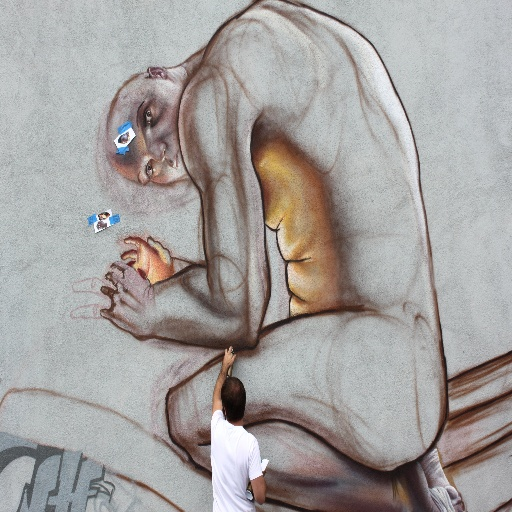hand: (91, 242, 158, 341), (119, 236, 173, 284), (221, 345, 236, 371)
